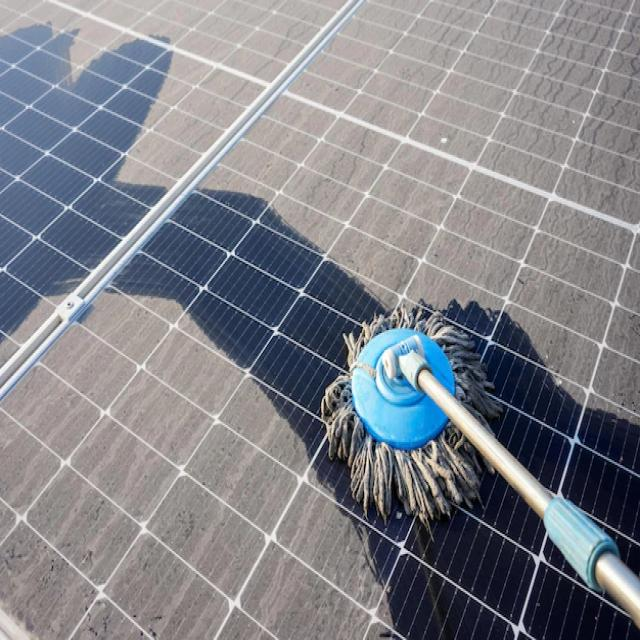dust-solar-panel: (0, 0, 640, 438), (0, 287, 395, 640)
